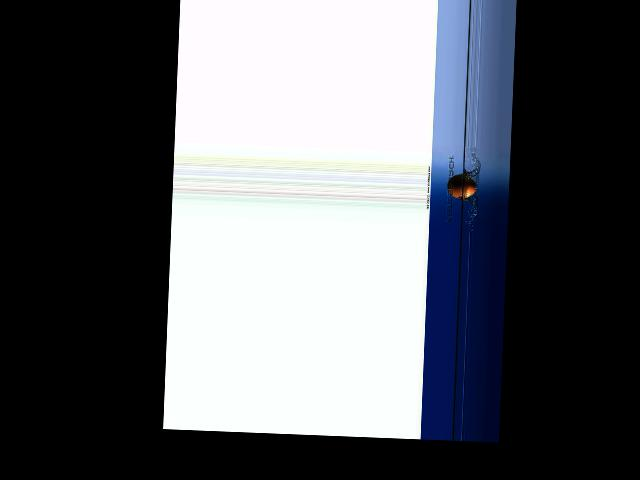egg: (446, 173, 476, 198)
